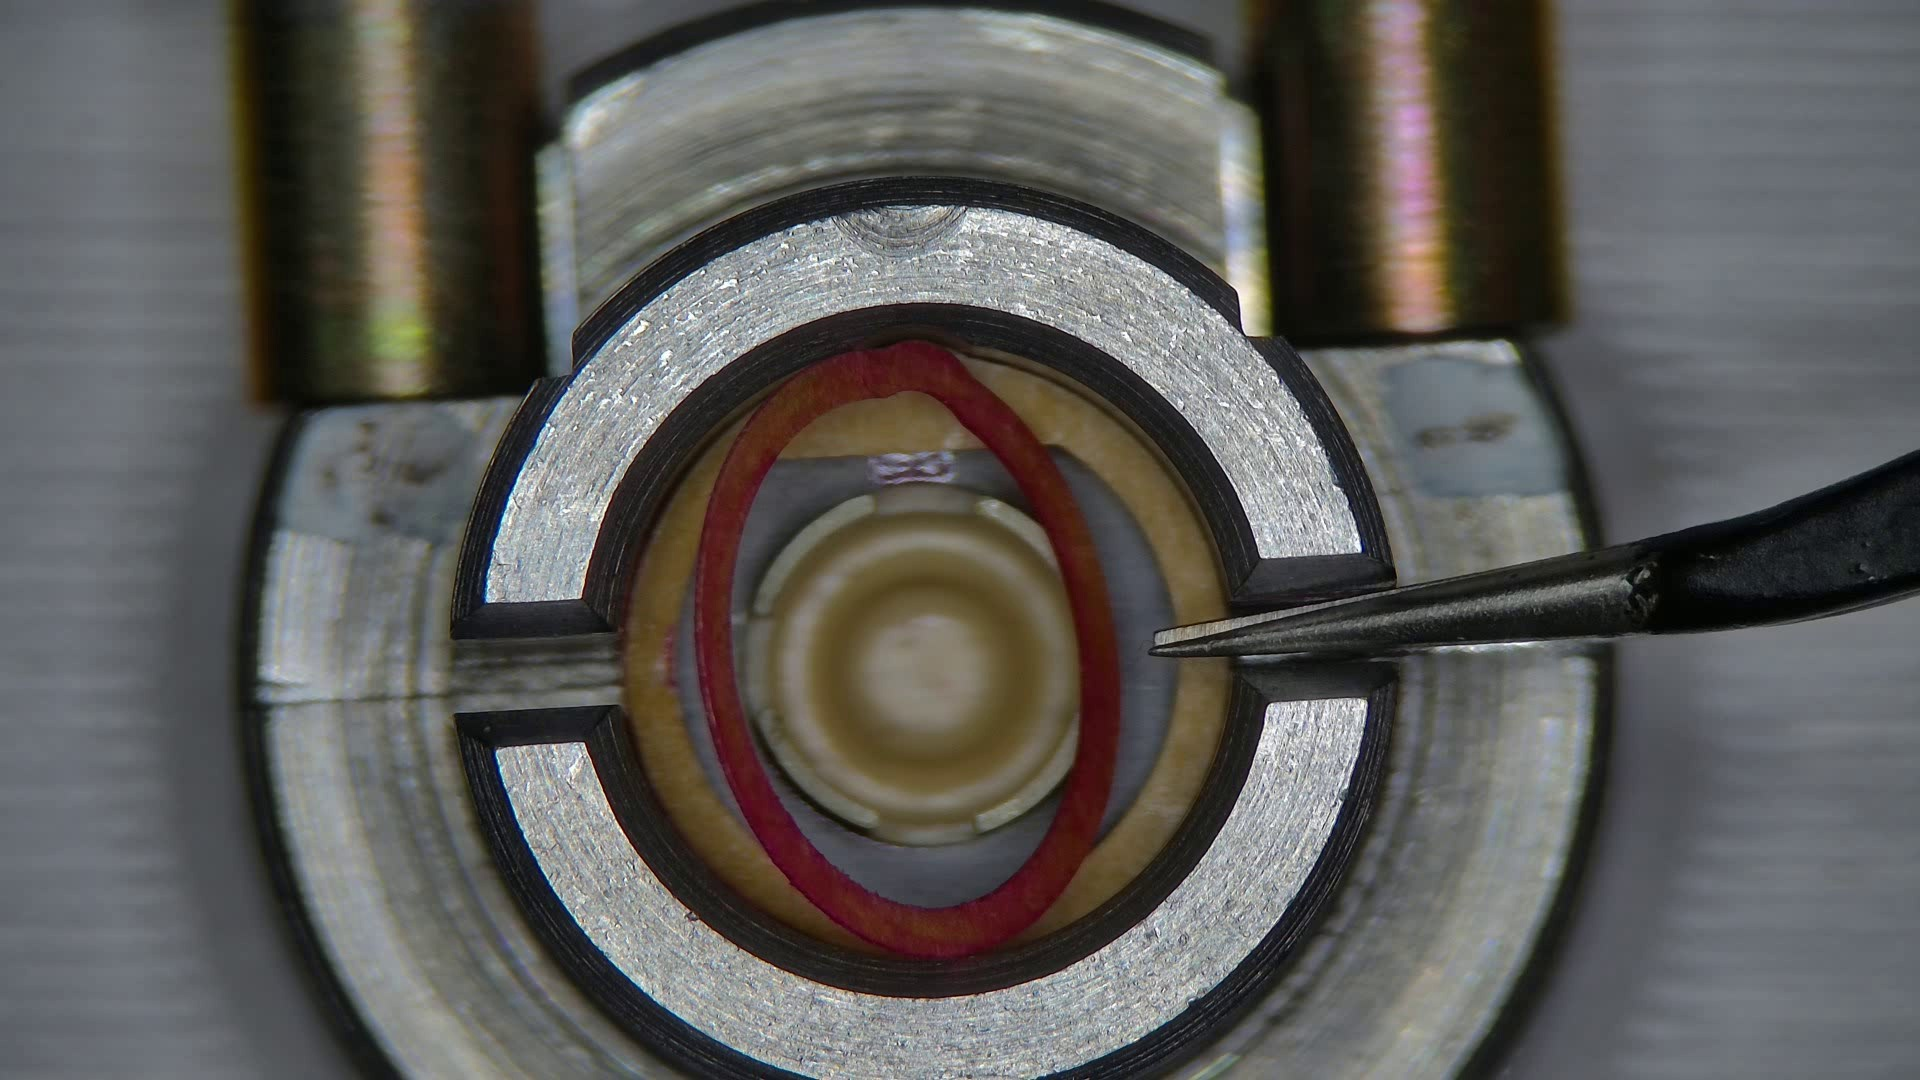GreyOring: (699, 340, 1116, 955)
YellowOring: (729, 448, 1064, 905), (1054, 454, 1176, 841), (673, 578, 753, 837)
redOring: (626, 440, 870, 949), (967, 359, 1224, 626), (1021, 658, 1226, 943), (779, 390, 984, 462)
